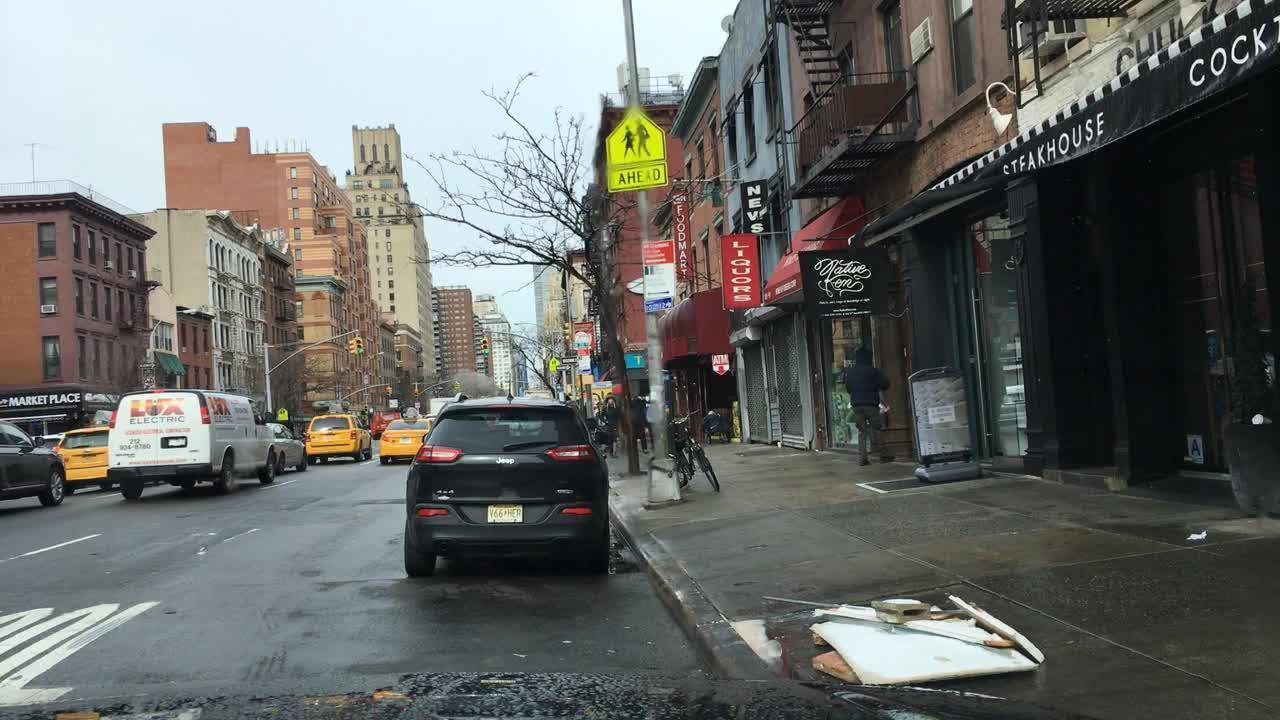jeep: (488, 455, 518, 471)
